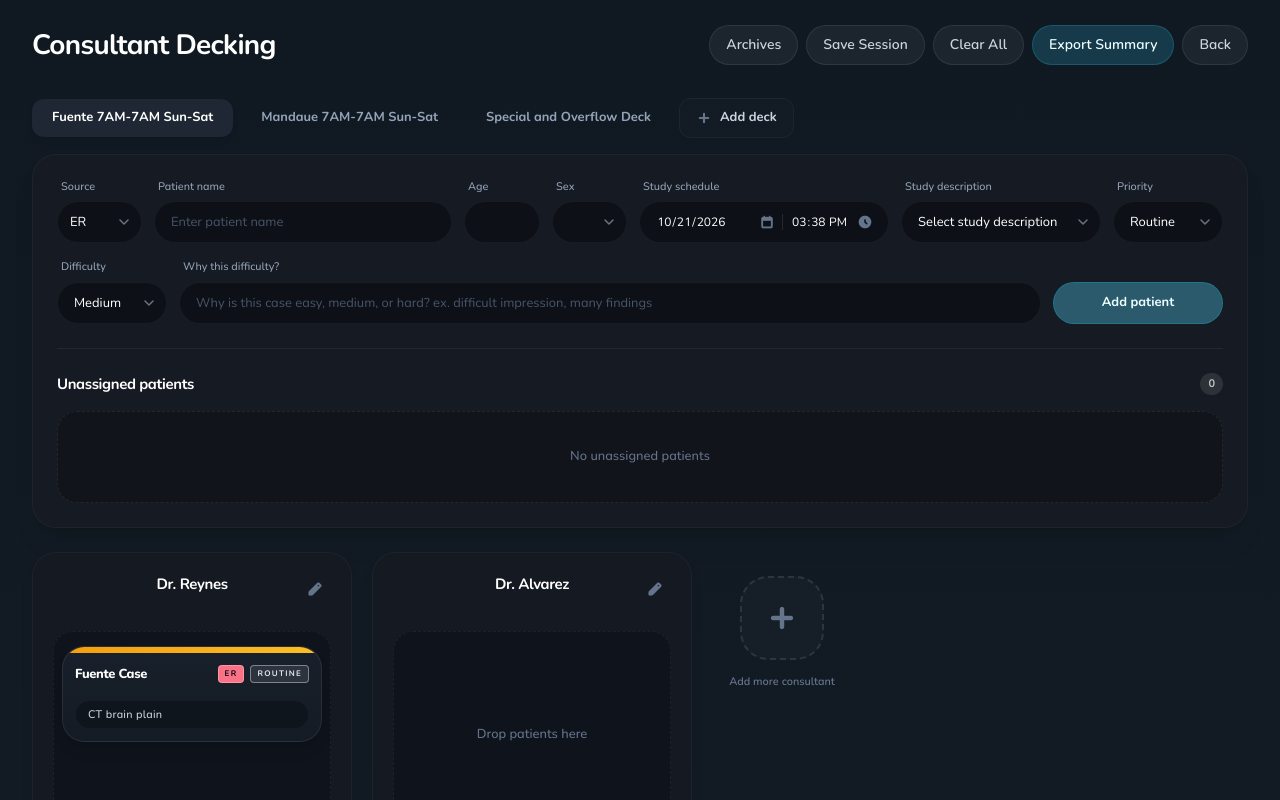
ConsultantDeckingBoardScreen › switches deck tabs and shows the other consultant list
Check: the button with aria-label "Edit Fuente Case" is shown, box x1=62 y1=646 x2=322 y2=742
Check: the button "Edit Mandaue Case" is not shown
Click the button "Mandaue 7AM-7AM Sun-Sat".
click(350, 118)  # box x1=249 y1=106 x2=450 y2=130
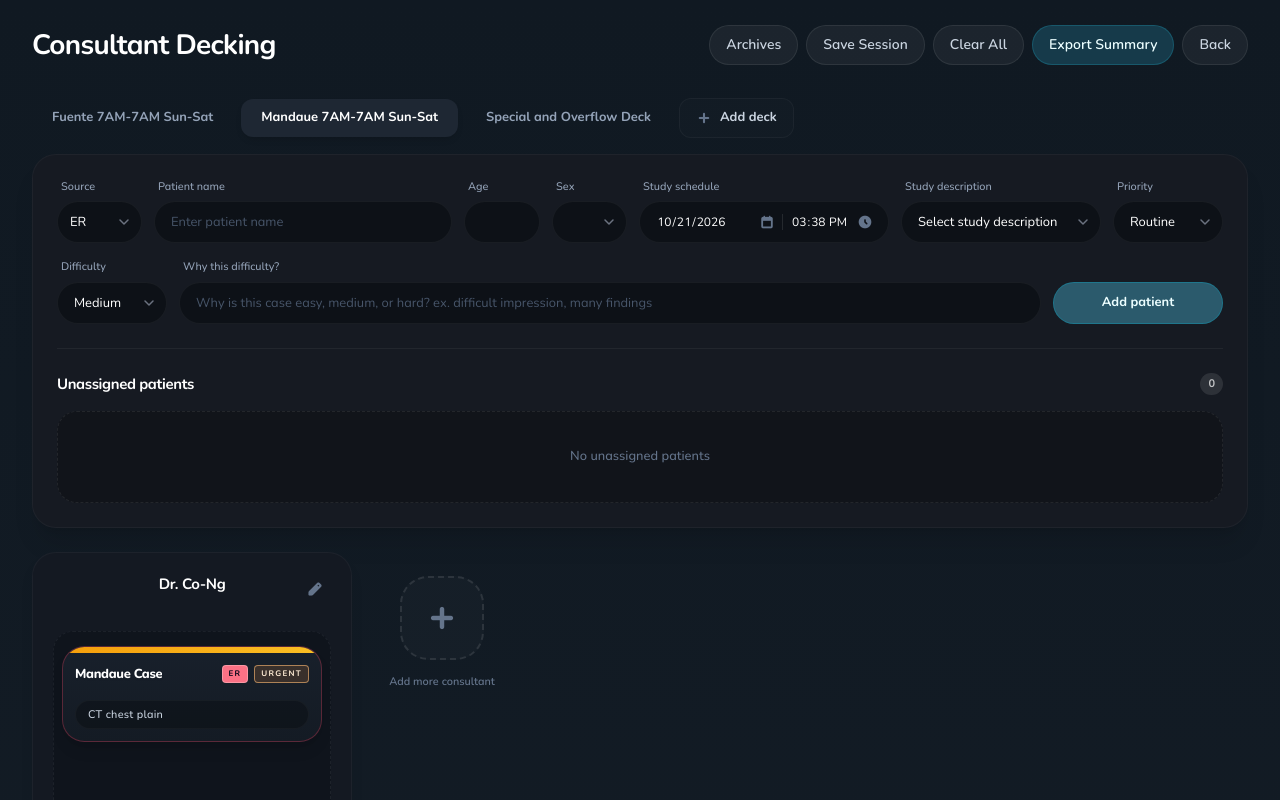
Check: the button with aria-label "Edit Mandaue Case" is shown, box x1=62 y1=646 x2=322 y2=742
